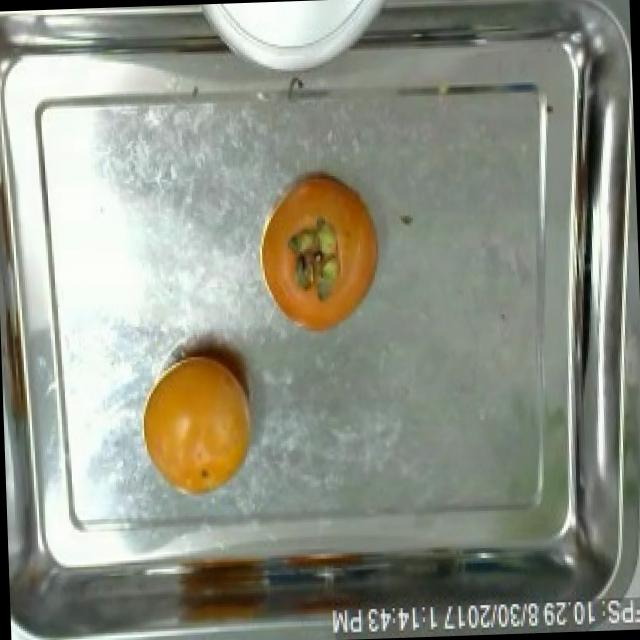Fruit: (252, 160, 390, 344), (130, 342, 268, 508), (155, 535, 281, 640)
